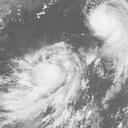cyclone: (22, 45, 74, 106), (83, 3, 127, 51)
